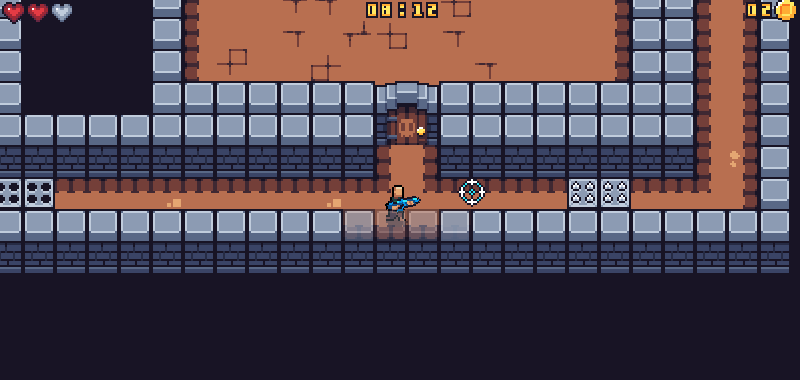door: (370, 76, 445, 147)
trap_off: (567, 177, 629, 210), (1, 177, 53, 208)
